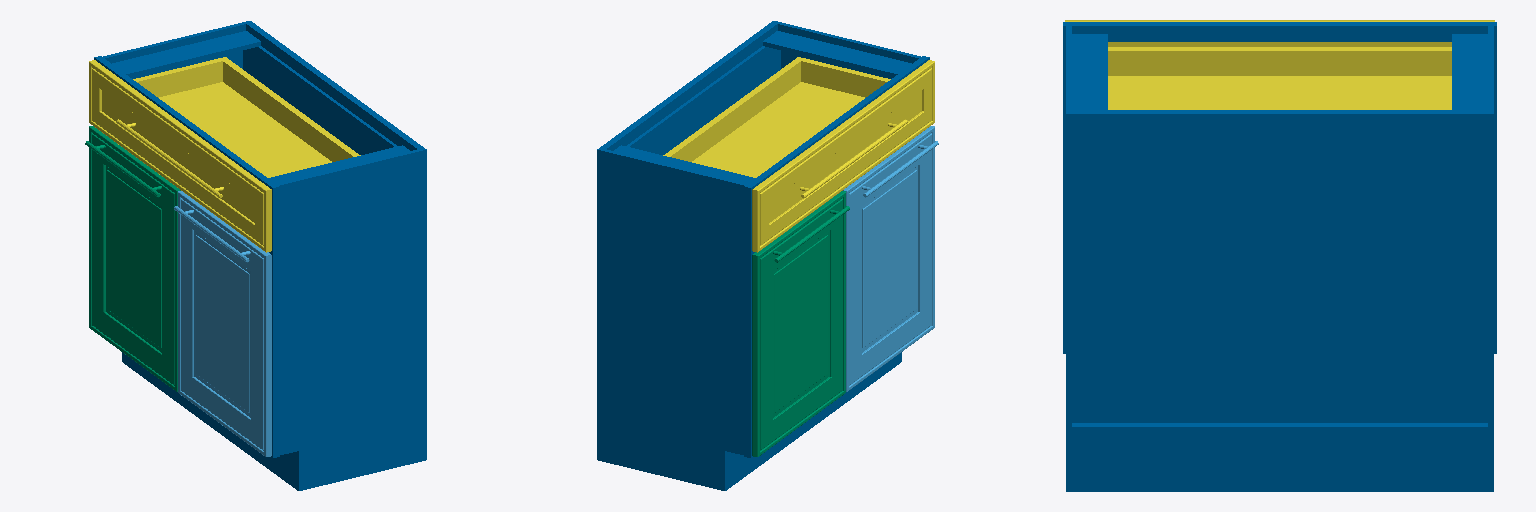
The robot description file, URDF, robot "partnet_3b98711b877ae402824662341ce2b233":
<?xml version="1.0" ?>
<robot name="partnet_3b98711b877ae402824662341ce2b233">
	<link name="base"/>
	<link name="link_0">
		<visual>
			<origin xyz="-0.6802230369772246 -0.6192770004272461 -0.3166995366910093"/>
			<geometry>
				<mesh filename="textured_objs/original-68.obj"/>
			</geometry>
		</visual>
		<visual>
			<origin xyz="-0.6802230369772246 -0.6192770004272461 -0.3166995366910093"/>
			<geometry>
				<mesh filename="textured_objs/original-76.obj"/>
			</geometry>
		</visual>
		<visual>
			<origin xyz="-0.6802230369772246 -0.6192770004272461 -0.3166995366910093"/>
			<geometry>
				<mesh filename="textured_objs/original-70.obj"/>
			</geometry>
		</visual>
		<visual>
			<origin xyz="-0.6802230369772246 -0.6192770004272461 -0.3166995366910093"/>
			<geometry>
				<mesh filename="textured_objs/original-73.obj"/>
			</geometry>
		</visual>
		<visual>
			<origin xyz="-0.6802230369772246 -0.6192770004272461 -0.3166995366910093"/>
			<geometry>
				<mesh filename="textured_objs/original-75.obj"/>
			</geometry>
		</visual>
		<visual>
			<origin xyz="-0.6802230369772246 -0.6192770004272461 -0.3166995366910093"/>
			<geometry>
				<mesh filename="textured_objs/original-69.obj"/>
			</geometry>
		</visual>
		<visual>
			<origin xyz="-0.6802230369772246 -0.6192770004272461 -0.3166995366910093"/>
			<geometry>
				<mesh filename="textured_objs/original-72.obj"/>
			</geometry>
		</visual>
		<visual>
			<origin xyz="-0.6802230369772246 -0.6192770004272461 -0.3166995366910093"/>
			<geometry>
				<mesh filename="textured_objs/original-74.obj"/>
			</geometry>
		</visual>
		<visual>
			<origin xyz="-0.6802230369772246 -0.6192770004272461 -0.3166995366910093"/>
			<geometry>
				<mesh filename="textured_objs/original-71.obj"/>
			</geometry>
		</visual>
		<visual>
			<origin xyz="-0.6802230369772246 -0.6192770004272461 -0.3166995366910093"/>
			<geometry>
				<mesh filename="textured_objs/original-67.obj"/>
			</geometry>
		</visual>
		<visual>
			<origin xyz="-0.6802230369772246 -0.6192770004272461 -0.3166995366910093"/>
			<geometry>
				<mesh filename="textured_objs/original-80.obj"/>
			</geometry>
		</visual>
		<visual>
			<origin xyz="-0.6802230369772246 -0.6192770004272461 -0.3166995366910093"/>
			<geometry>
				<mesh filename="textured_objs/original-78.obj"/>
			</geometry>
		</visual>
		<visual>
			<origin xyz="-0.6802230369772246 -0.6192770004272461 -0.3166995366910093"/>
			<geometry>
				<mesh filename="textured_objs/original-79.obj"/>
			</geometry>
		</visual>
		<collision>
			<origin xyz="-0.6802230369772246 -0.6192770004272461 -0.3166995366910093"/>
			<geometry>
				<mesh filename="textured_objs/original-68.obj"/>
			</geometry>
		</collision>
		<collision>
			<origin xyz="-0.6802230369772246 -0.6192770004272461 -0.3166995366910093"/>
			<geometry>
				<mesh filename="textured_objs/original-76.obj"/>
			</geometry>
		</collision>
		<collision>
			<origin xyz="-0.6802230369772246 -0.6192770004272461 -0.3166995366910093"/>
			<geometry>
				<mesh filename="textured_objs/original-70.obj"/>
			</geometry>
		</collision>
		<collision>
			<origin xyz="-0.6802230369772246 -0.6192770004272461 -0.3166995366910093"/>
			<geometry>
				<mesh filename="textured_objs/original-73.obj"/>
			</geometry>
		</collision>
		<collision>
			<origin xyz="-0.6802230369772246 -0.6192770004272461 -0.3166995366910093"/>
			<geometry>
				<mesh filename="textured_objs/original-75.obj"/>
			</geometry>
		</collision>
		<collision>
			<origin xyz="-0.6802230369772246 -0.6192770004272461 -0.3166995366910093"/>
			<geometry>
				<mesh filename="textured_objs/original-69.obj"/>
			</geometry>
		</collision>
		<collision>
			<origin xyz="-0.6802230369772246 -0.6192770004272461 -0.3166995366910093"/>
			<geometry>
				<mesh filename="textured_objs/original-72.obj"/>
			</geometry>
		</collision>
		<collision>
			<origin xyz="-0.6802230369772246 -0.6192770004272461 -0.3166995366910093"/>
			<geometry>
				<mesh filename="textured_objs/original-74.obj"/>
			</geometry>
		</collision>
		<collision>
			<origin xyz="-0.6802230369772246 -0.6192770004272461 -0.3166995366910093"/>
			<geometry>
				<mesh filename="textured_objs/original-71.obj"/>
			</geometry>
		</collision>
		<collision>
			<origin xyz="-0.6802230369772246 -0.6192770004272461 -0.3166995366910093"/>
			<geometry>
				<mesh filename="textured_objs/original-67.obj"/>
			</geometry>
		</collision>
		<collision>
			<origin xyz="-0.6802230369772246 -0.6192770004272461 -0.3166995366910093"/>
			<geometry>
				<mesh filename="textured_objs/original-80.obj"/>
			</geometry>
		</collision>
		<collision>
			<origin xyz="-0.6802230369772246 -0.6192770004272461 -0.3166995366910093"/>
			<geometry>
				<mesh filename="textured_objs/original-78.obj"/>
			</geometry>
		</collision>
		<collision>
			<origin xyz="-0.6802230369772246 -0.6192770004272461 -0.3166995366910093"/>
			<geometry>
				<mesh filename="textured_objs/original-79.obj"/>
			</geometry>
		</collision>
	</link>
	<joint name="joint_0" type="revolute">
		<origin xyz="0.6802230369772246 0.6192770004272461 0.3166995366910093"/>
		<axis xyz="0 1 0"/>
		<child link="link_0"/>
		<parent link="link_3"/>
		<limit lower="0.0" upper="2.9670597283903604"/>
	</joint>
	<link name="link_1">
		<visual>
			<origin xyz="0.7064340906392739 -0.6192770004272461 -0.3216742443484468"/>
			<geometry>
				<mesh filename="textured_objs/original-55.obj"/>
			</geometry>
		</visual>
		<visual>
			<origin xyz="0.7064340906392739 -0.6192770004272461 -0.3216742443484468"/>
			<geometry>
				<mesh filename="textured_objs/original-57.obj"/>
			</geometry>
		</visual>
		<visual>
			<origin xyz="0.7064340906392739 -0.6192770004272461 -0.3216742443484468"/>
			<geometry>
				<mesh filename="textured_objs/original-58.obj"/>
			</geometry>
		</visual>
		<visual>
			<origin xyz="0.7064340906392739 -0.6192770004272461 -0.3216742443484468"/>
			<geometry>
				<mesh filename="textured_objs/original-50.obj"/>
			</geometry>
		</visual>
		<visual>
			<origin xyz="0.7064340906392739 -0.6192770004272461 -0.3216742443484468"/>
			<geometry>
				<mesh filename="textured_objs/original-53.obj"/>
			</geometry>
		</visual>
		<visual>
			<origin xyz="0.7064340906392739 -0.6192770004272461 -0.3216742443484468"/>
			<geometry>
				<mesh filename="textured_objs/original-60.obj"/>
			</geometry>
		</visual>
		<visual>
			<origin xyz="0.7064340906392739 -0.6192770004272461 -0.3216742443484468"/>
			<geometry>
				<mesh filename="textured_objs/original-51.obj"/>
			</geometry>
		</visual>
		<visual>
			<origin xyz="0.7064340906392739 -0.6192770004272461 -0.3216742443484468"/>
			<geometry>
				<mesh filename="textured_objs/original-52.obj"/>
			</geometry>
		</visual>
		<visual>
			<origin xyz="0.7064340906392739 -0.6192770004272461 -0.3216742443484468"/>
			<geometry>
				<mesh filename="textured_objs/original-59.obj"/>
			</geometry>
		</visual>
		<visual>
			<origin xyz="0.7064340906392739 -0.6192770004272461 -0.3216742443484468"/>
			<geometry>
				<mesh filename="textured_objs/original-56.obj"/>
			</geometry>
		</visual>
		<visual>
			<origin xyz="0.7064340906392739 -0.6192770004272461 -0.3216742443484468"/>
			<geometry>
				<mesh filename="textured_objs/original-64.obj"/>
			</geometry>
		</visual>
		<visual>
			<origin xyz="0.7064340906392739 -0.6192770004272461 -0.3216742443484468"/>
			<geometry>
				<mesh filename="textured_objs/original-62.obj"/>
			</geometry>
		</visual>
		<visual>
			<origin xyz="0.7064340906392739 -0.6192770004272461 -0.3216742443484468"/>
			<geometry>
				<mesh filename="textured_objs/original-63.obj"/>
			</geometry>
		</visual>
		<collision>
			<origin xyz="0.7064340906392739 -0.6192770004272461 -0.3216742443484468"/>
			<geometry>
				<mesh filename="textured_objs/original-55.obj"/>
			</geometry>
		</collision>
		<collision>
			<origin xyz="0.7064340906392739 -0.6192770004272461 -0.3216742443484468"/>
			<geometry>
				<mesh filename="textured_objs/original-57.obj"/>
			</geometry>
		</collision>
		<collision>
			<origin xyz="0.7064340906392739 -0.6192770004272461 -0.3216742443484468"/>
			<geometry>
				<mesh filename="textured_objs/original-58.obj"/>
			</geometry>
		</collision>
		<collision>
			<origin xyz="0.7064340906392739 -0.6192770004272461 -0.3216742443484468"/>
			<geometry>
				<mesh filename="textured_objs/original-50.obj"/>
			</geometry>
		</collision>
		<collision>
			<origin xyz="0.7064340906392739 -0.6192770004272461 -0.3216742443484468"/>
			<geometry>
				<mesh filename="textured_objs/original-53.obj"/>
			</geometry>
		</collision>
		<collision>
			<origin xyz="0.7064340906392739 -0.6192770004272461 -0.3216742443484468"/>
			<geometry>
				<mesh filename="textured_objs/original-60.obj"/>
			</geometry>
		</collision>
		<collision>
			<origin xyz="0.7064340906392739 -0.6192770004272461 -0.3216742443484468"/>
			<geometry>
				<mesh filename="textured_objs/original-51.obj"/>
			</geometry>
		</collision>
		<collision>
			<origin xyz="0.7064340906392739 -0.6192770004272461 -0.3216742443484468"/>
			<geometry>
				<mesh filename="textured_objs/original-52.obj"/>
			</geometry>
		</collision>
		<collision>
			<origin xyz="0.7064340906392739 -0.6192770004272461 -0.3216742443484468"/>
			<geometry>
				<mesh filename="textured_objs/original-59.obj"/>
			</geometry>
		</collision>
		<collision>
			<origin xyz="0.7064340906392739 -0.6192770004272461 -0.3216742443484468"/>
			<geometry>
				<mesh filename="textured_objs/original-56.obj"/>
			</geometry>
		</collision>
		<collision>
			<origin xyz="0.7064340906392739 -0.6192770004272461 -0.3216742443484468"/>
			<geometry>
				<mesh filename="textured_objs/original-64.obj"/>
			</geometry>
		</collision>
		<collision>
			<origin xyz="0.7064340906392739 -0.6192770004272461 -0.3216742443484468"/>
			<geometry>
				<mesh filename="textured_objs/original-62.obj"/>
			</geometry>
		</collision>
		<collision>
			<origin xyz="0.7064340906392739 -0.6192770004272461 -0.3216742443484468"/>
			<geometry>
				<mesh filename="textured_objs/original-63.obj"/>
			</geometry>
		</collision>
	</link>
	<joint name="joint_1" type="revolute">
		<origin xyz="-0.7064340906392739 0.6192770004272461 0.3216742443484468"/>
		<axis xyz="0 -1 0"/>
		<child link="link_1"/>
		<parent link="link_3"/>
		<limit lower="-0.0" upper="2.9670597283903604"/>
	</joint>
	<link name="link_2">
		<visual>
			<origin xyz="0 0 0"/>
			<geometry>
				<mesh filename="textured_objs/original-26.obj"/>
			</geometry>
		</visual>
		<visual>
			<origin xyz="0 0 0"/>
			<geometry>
				<mesh filename="textured_objs/original-40.obj"/>
			</geometry>
		</visual>
		<visual>
			<origin xyz="0 0 0"/>
			<geometry>
				<mesh filename="textured_objs/original-41.obj"/>
			</geometry>
		</visual>
		<visual>
			<origin xyz="0 0 0"/>
			<geometry>
				<mesh filename="textured_objs/original-34.obj"/>
			</geometry>
		</visual>
		<visual>
			<origin xyz="0 0 0"/>
			<geometry>
				<mesh filename="textured_objs/original-37.obj"/>
			</geometry>
		</visual>
		<visual>
			<origin xyz="0 0 0"/>
			<geometry>
				<mesh filename="textured_objs/original-44.obj"/>
			</geometry>
		</visual>
		<visual>
			<origin xyz="0 0 0"/>
			<geometry>
				<mesh filename="textured_objs/original-42.obj"/>
			</geometry>
		</visual>
		<visual>
			<origin xyz="0 0 0"/>
			<geometry>
				<mesh filename="textured_objs/original-36.obj"/>
			</geometry>
		</visual>
		<visual>
			<origin xyz="0 0 0"/>
			<geometry>
				<mesh filename="textured_objs/original-35.obj"/>
			</geometry>
		</visual>
		<visual>
			<origin xyz="0 0 0"/>
			<geometry>
				<mesh filename="textured_objs/original-43.obj"/>
			</geometry>
		</visual>
		<visual>
			<origin xyz="0 0 0"/>
			<geometry>
				<mesh filename="textured_objs/original-39.obj"/>
			</geometry>
		</visual>
		<visual>
			<origin xyz="0 0 0"/>
			<geometry>
				<mesh filename="textured_objs/original-25.obj"/>
			</geometry>
		</visual>
		<visual>
			<origin xyz="0 0 0"/>
			<geometry>
				<mesh filename="textured_objs/original-30.obj"/>
			</geometry>
		</visual>
		<visual>
			<origin xyz="0 0 0"/>
			<geometry>
				<mesh filename="textured_objs/original-32.obj"/>
			</geometry>
		</visual>
		<visual>
			<origin xyz="0 0 0"/>
			<geometry>
				<mesh filename="textured_objs/original-31.obj"/>
			</geometry>
		</visual>
		<visual>
			<origin xyz="0 0 0"/>
			<geometry>
				<mesh filename="textured_objs/original-29.obj"/>
			</geometry>
		</visual>
		<visual>
			<origin xyz="0 0 0"/>
			<geometry>
				<mesh filename="textured_objs/original-28.obj"/>
			</geometry>
		</visual>
		<visual>
			<origin xyz="0 0 0"/>
			<geometry>
				<mesh filename="textured_objs/original-48.obj"/>
			</geometry>
		</visual>
		<visual>
			<origin xyz="0 0 0"/>
			<geometry>
				<mesh filename="textured_objs/original-46.obj"/>
			</geometry>
		</visual>
		<visual>
			<origin xyz="0 0 0"/>
			<geometry>
				<mesh filename="textured_objs/original-47.obj"/>
			</geometry>
		</visual>
		<collision>
			<origin xyz="0 0 0"/>
			<geometry>
				<mesh filename="textured_objs/original-26.obj"/>
			</geometry>
		</collision>
		<collision>
			<origin xyz="0 0 0"/>
			<geometry>
				<mesh filename="textured_objs/original-40.obj"/>
			</geometry>
		</collision>
		<collision>
			<origin xyz="0 0 0"/>
			<geometry>
				<mesh filename="textured_objs/original-41.obj"/>
			</geometry>
		</collision>
		<collision>
			<origin xyz="0 0 0"/>
			<geometry>
				<mesh filename="textured_objs/original-34.obj"/>
			</geometry>
		</collision>
		<collision>
			<origin xyz="0 0 0"/>
			<geometry>
				<mesh filename="textured_objs/original-37.obj"/>
			</geometry>
		</collision>
		<collision>
			<origin xyz="0 0 0"/>
			<geometry>
				<mesh filename="textured_objs/original-44.obj"/>
			</geometry>
		</collision>
		<collision>
			<origin xyz="0 0 0"/>
			<geometry>
				<mesh filename="textured_objs/original-42.obj"/>
			</geometry>
		</collision>
		<collision>
			<origin xyz="0 0 0"/>
			<geometry>
				<mesh filename="textured_objs/original-36.obj"/>
			</geometry>
		</collision>
		<collision>
			<origin xyz="0 0 0"/>
			<geometry>
				<mesh filename="textured_objs/original-35.obj"/>
			</geometry>
		</collision>
		<collision>
			<origin xyz="0 0 0"/>
			<geometry>
				<mesh filename="textured_objs/original-43.obj"/>
			</geometry>
		</collision>
		<collision>
			<origin xyz="0 0 0"/>
			<geometry>
				<mesh filename="textured_objs/original-39.obj"/>
			</geometry>
		</collision>
		<collision>
			<origin xyz="0 0 0"/>
			<geometry>
				<mesh filename="textured_objs/original-25.obj"/>
			</geometry>
		</collision>
		<collision>
			<origin xyz="0 0 0"/>
			<geometry>
				<mesh filename="textured_objs/original-30.obj"/>
			</geometry>
		</collision>
		<collision>
			<origin xyz="0 0 0"/>
			<geometry>
				<mesh filename="textured_objs/original-32.obj"/>
			</geometry>
		</collision>
		<collision>
			<origin xyz="0 0 0"/>
			<geometry>
				<mesh filename="textured_objs/original-31.obj"/>
			</geometry>
		</collision>
		<collision>
			<origin xyz="0 0 0"/>
			<geometry>
				<mesh filename="textured_objs/original-29.obj"/>
			</geometry>
		</collision>
		<collision>
			<origin xyz="0 0 0"/>
			<geometry>
				<mesh filename="textured_objs/original-28.obj"/>
			</geometry>
		</collision>
		<collision>
			<origin xyz="0 0 0"/>
			<geometry>
				<mesh filename="textured_objs/original-48.obj"/>
			</geometry>
		</collision>
		<collision>
			<origin xyz="0 0 0"/>
			<geometry>
				<mesh filename="textured_objs/original-46.obj"/>
			</geometry>
		</collision>
		<collision>
			<origin xyz="0 0 0"/>
			<geometry>
				<mesh filename="textured_objs/original-47.obj"/>
			</geometry>
		</collision>
	</link>
	<joint name="joint_2" type="prismatic">
		<origin xyz="0 0 0"/>
		<axis xyz="0 0 1"/>
		<child link="link_2"/>
		<parent link="link_3"/>
		<limit lower="0" upper="0.48"/>
	</joint>
	<link name="link_3">
		<visual>
			<origin xyz="0 0 0"/>
			<geometry>
				<mesh filename="textured_objs/original-2.obj"/>
			</geometry>
		</visual>
		<visual>
			<origin xyz="0 0 0"/>
			<geometry>
				<mesh filename="textured_objs/original-12.obj"/>
			</geometry>
		</visual>
		<visual>
			<origin xyz="0 0 0"/>
			<geometry>
				<mesh filename="textured_objs/original-11.obj"/>
			</geometry>
		</visual>
		<visual>
			<origin xyz="0 0 0"/>
			<geometry>
				<mesh filename="textured_objs/original-16.obj"/>
			</geometry>
		</visual>
		<visual>
			<origin xyz="0 0 0"/>
			<geometry>
				<mesh filename="textured_objs/original-15.obj"/>
			</geometry>
		</visual>
		<visual>
			<origin xyz="0 0 0"/>
			<geometry>
				<mesh filename="textured_objs/original-6.obj"/>
			</geometry>
		</visual>
		<visual>
			<origin xyz="0 0 0"/>
			<geometry>
				<mesh filename="textured_objs/original-81.obj"/>
			</geometry>
		</visual>
		<visual>
			<origin xyz="0 0 0"/>
			<geometry>
				<mesh filename="textured_objs/original-3.obj"/>
			</geometry>
		</visual>
		<visual>
			<origin xyz="0 0 0"/>
			<geometry>
				<mesh filename="textured_objs/original-21.obj"/>
			</geometry>
		</visual>
		<visual>
			<origin xyz="0 0 0"/>
			<geometry>
				<mesh filename="textured_objs/original-7.obj"/>
			</geometry>
		</visual>
		<visual>
			<origin xyz="0 0 0"/>
			<geometry>
				<mesh filename="textured_objs/original-22.obj"/>
			</geometry>
		</visual>
		<visual>
			<origin xyz="0 0 0"/>
			<geometry>
				<mesh filename="textured_objs/original-5.obj"/>
			</geometry>
		</visual>
		<visual>
			<origin xyz="0 0 0"/>
			<geometry>
				<mesh filename="textured_objs/original-4.obj"/>
			</geometry>
		</visual>
		<visual>
			<origin xyz="0 0 0"/>
			<geometry>
				<mesh filename="textured_objs/original-8.obj"/>
			</geometry>
		</visual>
		<visual>
			<origin xyz="0 0 0"/>
			<geometry>
				<mesh filename="textured_objs/original-9.obj"/>
			</geometry>
		</visual>
		<visual>
			<origin xyz="0 0 0"/>
			<geometry>
				<mesh filename="textured_objs/original-18.obj"/>
			</geometry>
		</visual>
		<visual>
			<origin xyz="0 0 0"/>
			<geometry>
				<mesh filename="textured_objs/original-20.obj"/>
			</geometry>
		</visual>
		<visual>
			<origin xyz="0 0 0"/>
			<geometry>
				<mesh filename="textured_objs/original-13.obj"/>
			</geometry>
		</visual>
		<visual>
			<origin xyz="0 0 0"/>
			<geometry>
				<mesh filename="textured_objs/original-19.obj"/>
			</geometry>
		</visual>
		<visual>
			<origin xyz="0 0 0"/>
			<geometry>
				<mesh filename="textured_objs/original-17.obj"/>
			</geometry>
		</visual>
		<collision>
			<origin xyz="0 0 0"/>
			<geometry>
				<mesh filename="textured_objs/original-2.obj"/>
			</geometry>
		</collision>
		<collision>
			<origin xyz="0 0 0"/>
			<geometry>
				<mesh filename="textured_objs/original-12.obj"/>
			</geometry>
		</collision>
		<collision>
			<origin xyz="0 0 0"/>
			<geometry>
				<mesh filename="textured_objs/original-11.obj"/>
			</geometry>
		</collision>
		<collision>
			<origin xyz="0 0 0"/>
			<geometry>
				<mesh filename="textured_objs/original-16.obj"/>
			</geometry>
		</collision>
		<collision>
			<origin xyz="0 0 0"/>
			<geometry>
				<mesh filename="textured_objs/original-15.obj"/>
			</geometry>
		</collision>
		<collision>
			<origin xyz="0 0 0"/>
			<geometry>
				<mesh filename="textured_objs/original-6.obj"/>
			</geometry>
		</collision>
		<collision>
			<origin xyz="0 0 0"/>
			<geometry>
				<mesh filename="textured_objs/original-81.obj"/>
			</geometry>
		</collision>
		<collision>
			<origin xyz="0 0 0"/>
			<geometry>
				<mesh filename="textured_objs/original-3.obj"/>
			</geometry>
		</collision>
		<collision>
			<origin xyz="0 0 0"/>
			<geometry>
				<mesh filename="textured_objs/original-21.obj"/>
			</geometry>
		</collision>
		<collision>
			<origin xyz="0 0 0"/>
			<geometry>
				<mesh filename="textured_objs/original-7.obj"/>
			</geometry>
		</collision>
		<collision>
			<origin xyz="0 0 0"/>
			<geometry>
				<mesh filename="textured_objs/original-22.obj"/>
			</geometry>
		</collision>
		<collision>
			<origin xyz="0 0 0"/>
			<geometry>
				<mesh filename="textured_objs/original-5.obj"/>
			</geometry>
		</collision>
		<collision>
			<origin xyz="0 0 0"/>
			<geometry>
				<mesh filename="textured_objs/original-4.obj"/>
			</geometry>
		</collision>
		<collision>
			<origin xyz="0 0 0"/>
			<geometry>
				<mesh filename="textured_objs/original-8.obj"/>
			</geometry>
		</collision>
		<collision>
			<origin xyz="0 0 0"/>
			<geometry>
				<mesh filename="textured_objs/original-9.obj"/>
			</geometry>
		</collision>
		<collision>
			<origin xyz="0 0 0"/>
			<geometry>
				<mesh filename="textured_objs/original-18.obj"/>
			</geometry>
		</collision>
		<collision>
			<origin xyz="0 0 0"/>
			<geometry>
				<mesh filename="textured_objs/original-20.obj"/>
			</geometry>
		</collision>
		<collision>
			<origin xyz="0 0 0"/>
			<geometry>
				<mesh filename="textured_objs/original-13.obj"/>
			</geometry>
		</collision>
		<collision>
			<origin xyz="0 0 0"/>
			<geometry>
				<mesh filename="textured_objs/original-19.obj"/>
			</geometry>
		</collision>
		<collision>
			<origin xyz="0 0 0"/>
			<geometry>
				<mesh filename="textured_objs/original-17.obj"/>
			</geometry>
		</collision>
	</link>
	<joint name="joint_3" type="fixed">
		<origin rpy="1.570796326794897 0 -1.570796326794897" xyz="0 0 0"/>
		<child link="link_3"/>
		<parent link="base"/>
	</joint>
</robot>

--- Render facts (derived) ---
3 views of the same robot in one strip: view 1: azimuth 30°, elevation 25°; view 2: azimuth 150°, elevation 25°; view 3: azimuth 270°, elevation 25° (orthographic).
Robot: partnet_3b98711b877ae402824662341ce2b233 — 5 links, 4 joints (2 revolute, 1 prismatic, 1 fixed); root link base; default pose: all joints at 0.
Visible links, largest first — view 1: link_3, link_2, link_0, link_1; view 2: link_3, link_2, link_1, link_0; view 3: link_3, link_2.
Boxes of the visible links, x1=… form: link_3: x1=94, y1=21, x2=426, y2=490; link_2: x1=89, y1=57, x2=360, y2=252; link_0: x1=174, y1=191, x2=271, y2=456; link_1: x1=85, y1=126, x2=180, y2=391; link_3: x1=597, y1=21, x2=929, y2=490; link_2: x1=663, y1=57, x2=934, y2=252; link_1: x1=752, y1=191, x2=849, y2=456; link_0: x1=843, y1=126, x2=938, y2=391; link_3: x1=1063, y1=22, x2=1496, y2=491; link_2: x1=1065, y1=20, x2=1494, y2=109.
Size in the robot's own frame: 0.7813 by 1.4 by 1.34 metres.
Meshes: 66 distinct files referenced, 66 mesh visuals loaded (66 OBJ).